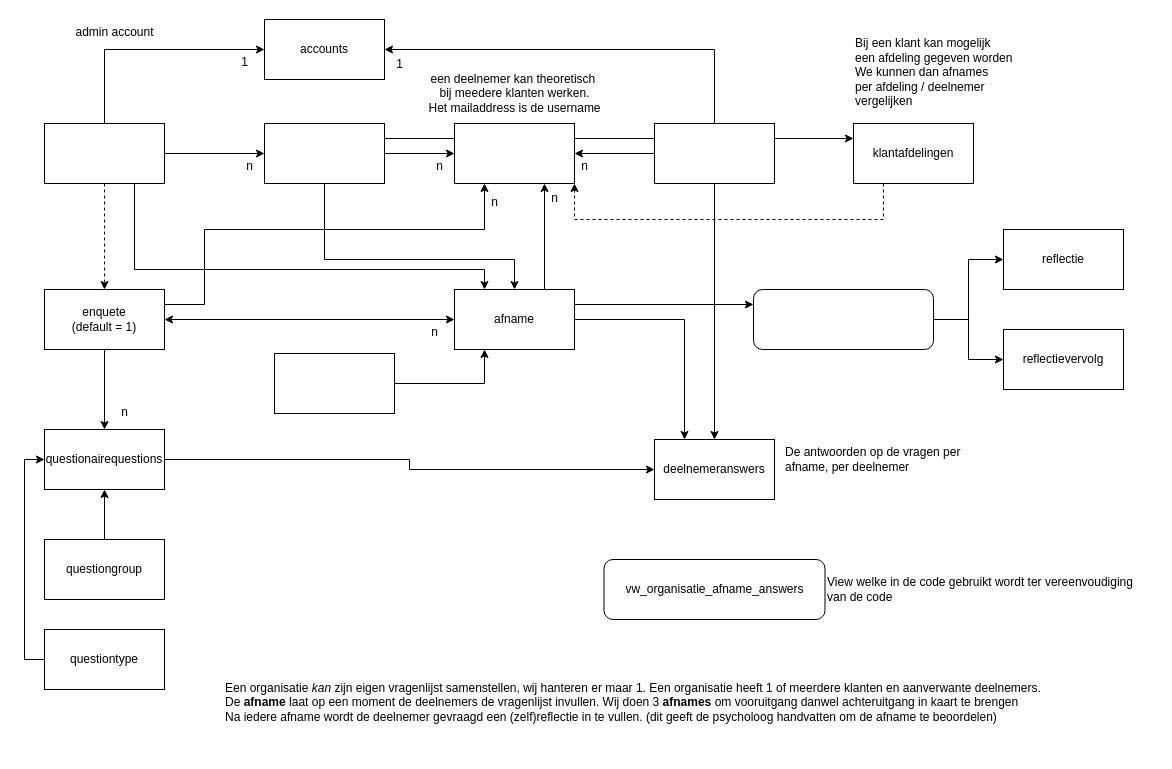
Some shapes in this 1172 by 769 pixel diagram are drawn without their labels. The shapes that lost their labels are listed below. From the top down, each one's centre as x and y in pixels, then its label:
At (x=104, y=153): "organisatie".
At (x=324, y=153): "klanten".
At (x=514, y=153): "deelnemer_klant".
At (x=714, y=153): "deelnemer".
At (x=843, y=319): "reflectie vragenlijst (/quest/reflectie.aspx /quert/refelctievervolg.aspx)".
At (x=334, y=383): "afnamestatus".
